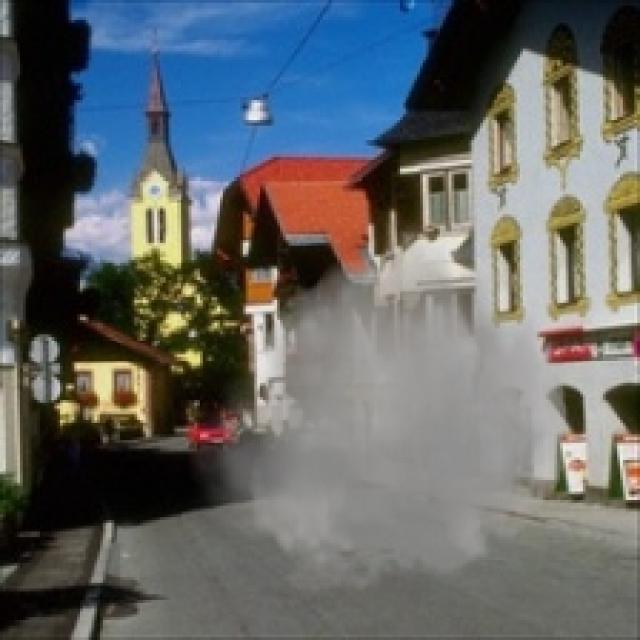smoke: (189, 214, 577, 609)
